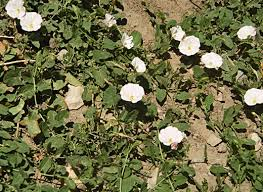bindweed: (118, 81, 145, 103), (158, 125, 185, 147), (18, 11, 43, 32), (178, 34, 201, 56), (242, 87, 263, 108), (199, 52, 223, 70), (5, 1, 26, 20), (236, 24, 256, 41), (130, 56, 147, 74), (169, 24, 185, 41), (121, 32, 135, 50), (102, 13, 116, 28)
